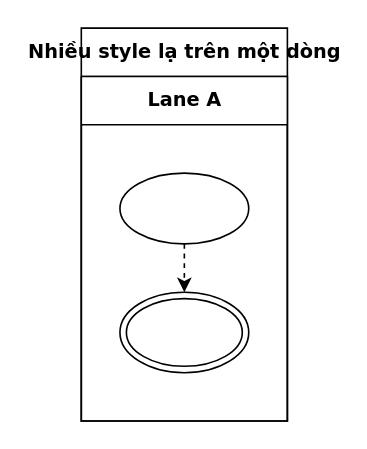
Some shapes in this 367 by 449 pixel diagram are drawn without their labels. Each missing label, with the centre of its shape:
Vào: the point at 183,207
Xong: the point at 183,332
